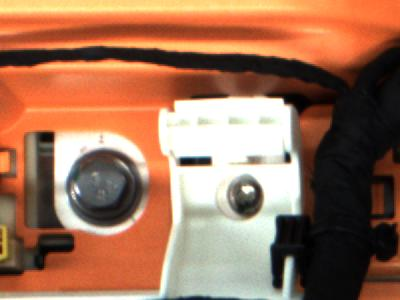nut_b: (66, 153, 147, 228)
